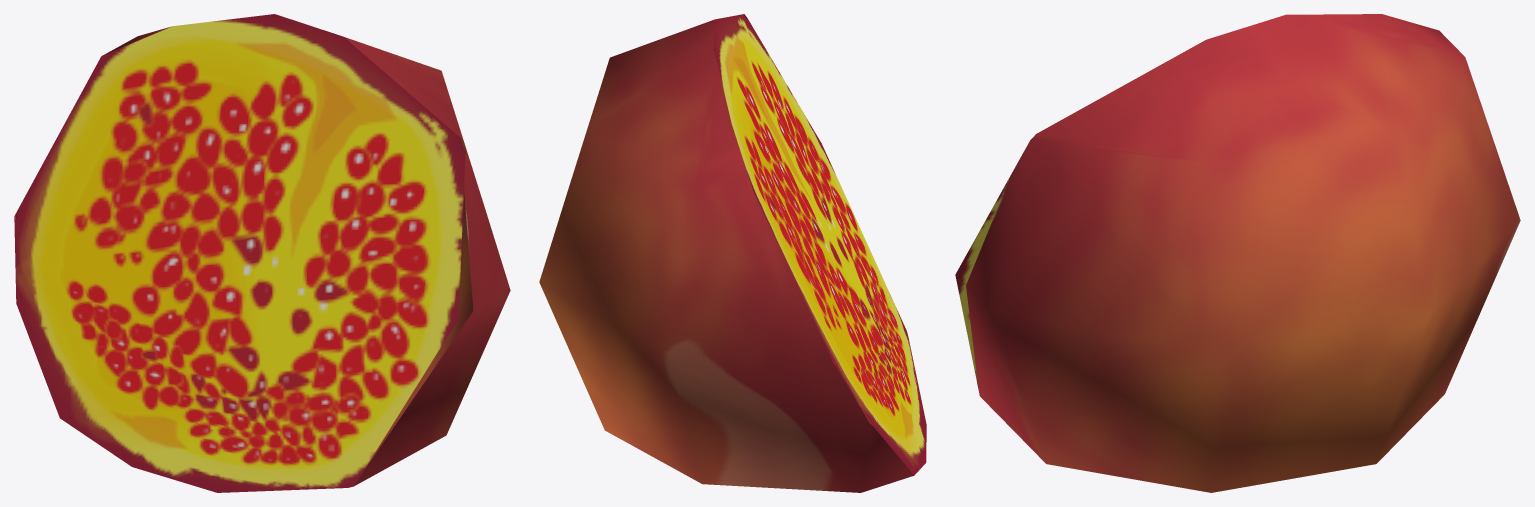
Rendered from Pome2.FBX.
The picture shows the model from 3 angles, left to right: view 1: azimuth 30°, elevation 25°; view 2: azimuth 150°, elevation 25°; view 3: azimuth 270°, elevation 25°; orthographic projection. The views are drawn at different scales.
Visible parts, largest first — view 1: Pomegranate Slice 2; view 2: Pomegranate Slice 2; view 3: Pomegranate Slice 2.
Boxes of the visible parts, x1,y1,x2,y2 form: Pomegranate Slice 2: [14, 14, 510, 492]; Pomegranate Slice 2: [539, 14, 926, 492]; Pomegranate Slice 2: [955, 14, 1520, 492].
Bounding box in the file's own units: 7.01 × 7.64 × 7.87.
